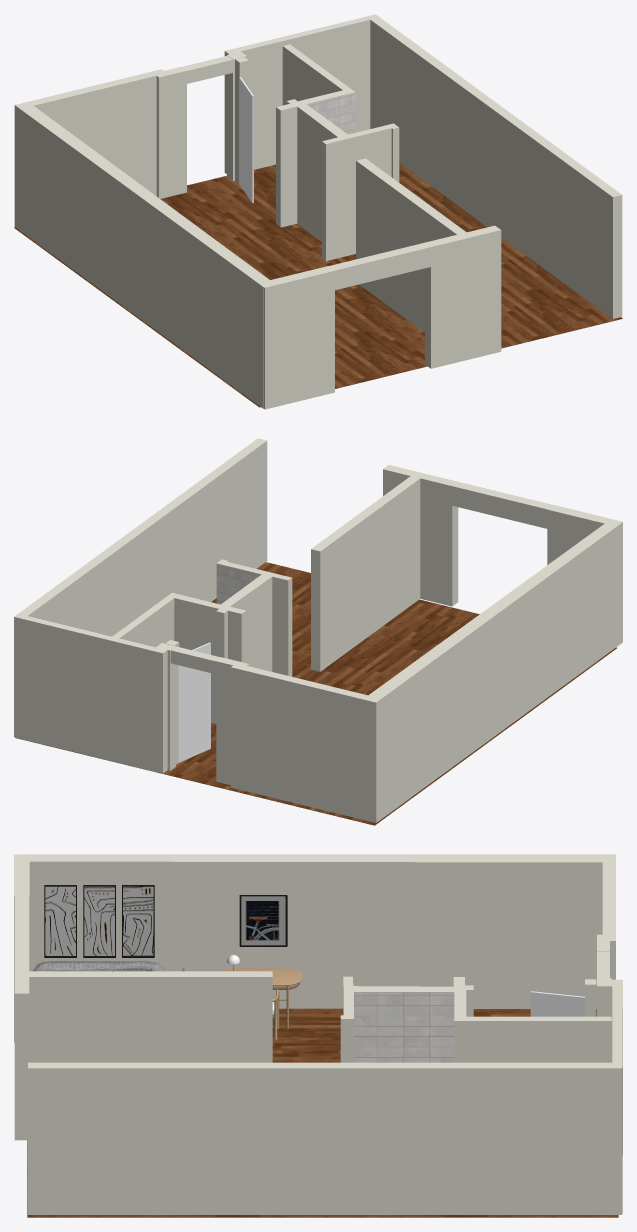
File: WALLS GLB VECTARY_v3.glb
3 renders of one model, top to bottom at view 1: azimuth 30°, elevation 25°; view 2: azimuth 150°, elevation 25°; view 3: azimuth 270°, elevation 25°, orthographic. The views are drawn at different scales.
Parts seen in each view (by area): view 1: Line016, Line017, Box001, Line009, Box147, Box146, Box144, Box150, Box154, THE CHARLES TEST1, Box152, Box201; view 2: Line016, Line017, Box144, Box001, Line009, Box147, Box154, Box150, Box146, THE CHARLES TEST1, Box152; view 3: Line017, Line016, Box144, Line009, THE CHARLES TEST1, Box001, Box147, Box040, Box042, Box044, Buffer Object, Box154 (+3 smaller).
Part boxes in pixels (<box>): Line016: <box>14,67,276,408</box>; Line017: <box>224,14,622,318</box>; Box001: <box>14,163,622,407</box>; Line009: <box>276,44,399,261</box>; Box147: <box>425,225,501,368</box>; Box146: <box>263,266,334,409</box>; Box144: <box>356,158,467,332</box>; Box150: <box>328,242,430,290</box>; Box154: <box>239,77,253,202</box>; THE CHARLES TEST1: <box>306,92,355,134</box>; Box152: <box>182,55,233,83</box>; Box201: <box>235,57,248,183</box>; Line016: <box>216,519,622,822</box>; Line017: <box>14,438,267,773</box>; Box144: <box>311,475,420,671</box>; Box001: <box>15,562,616,825</box>; Line009: <box>112,559,292,723</box>; Box147: <box>383,465,458,606</box>; Box154: <box>178,642,210,762</box>; Box150: <box>452,481,553,528</box>; Box146: <box>547,505,622,642</box>; THE CHARLES TEST1: <box>216,563,261,604</box>; Box152: <box>170,646,220,674</box>; Line017: <box>28,978,622,1214</box>; Line016: <box>16,854,615,1008</box>; Box144: <box>26,971,272,1062</box>; Line009: <box>340,976,611,1062</box>; THE CHARLES TEST1: <box>241,896,454,1062</box>; Box001: <box>27,1008,618,1217</box>; Box147: <box>14,952,29,1140</box>; Box040: <box>84,886,114,955</box>; Box042: <box>45,886,75,955</box>; Box044: <box>123,886,153,955</box>; Buffer Object: <box>33,961,164,971</box>; Box154: <box>530,991,584,1016</box>.
Size of the model in its own units: 1.02 by 0.3323 by 1.23.
37 materials, 26 textured.
